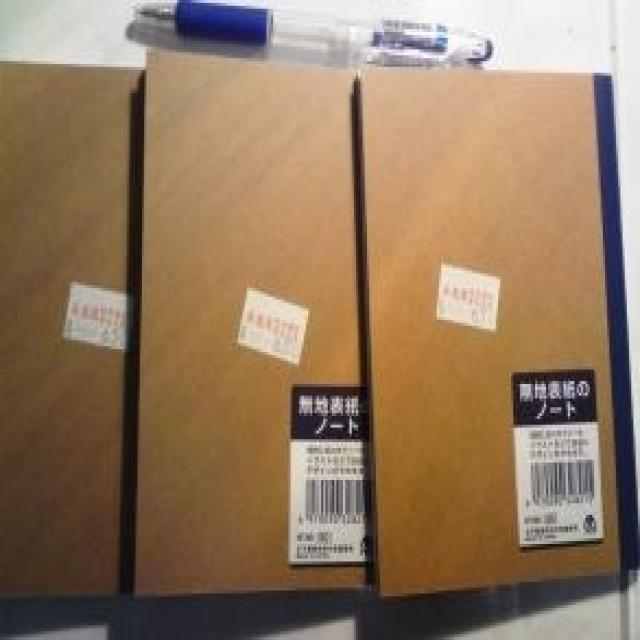box: (356, 70, 623, 596), (131, 49, 371, 599), (0, 61, 146, 599)
